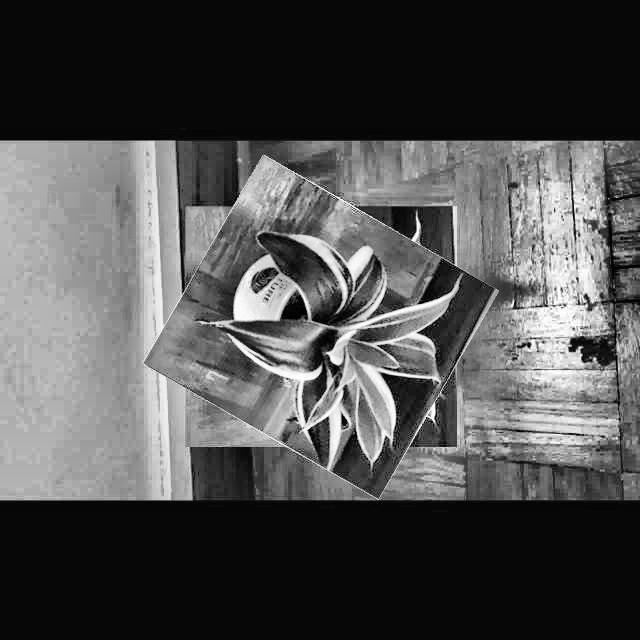plants: (164, 180, 478, 473)
